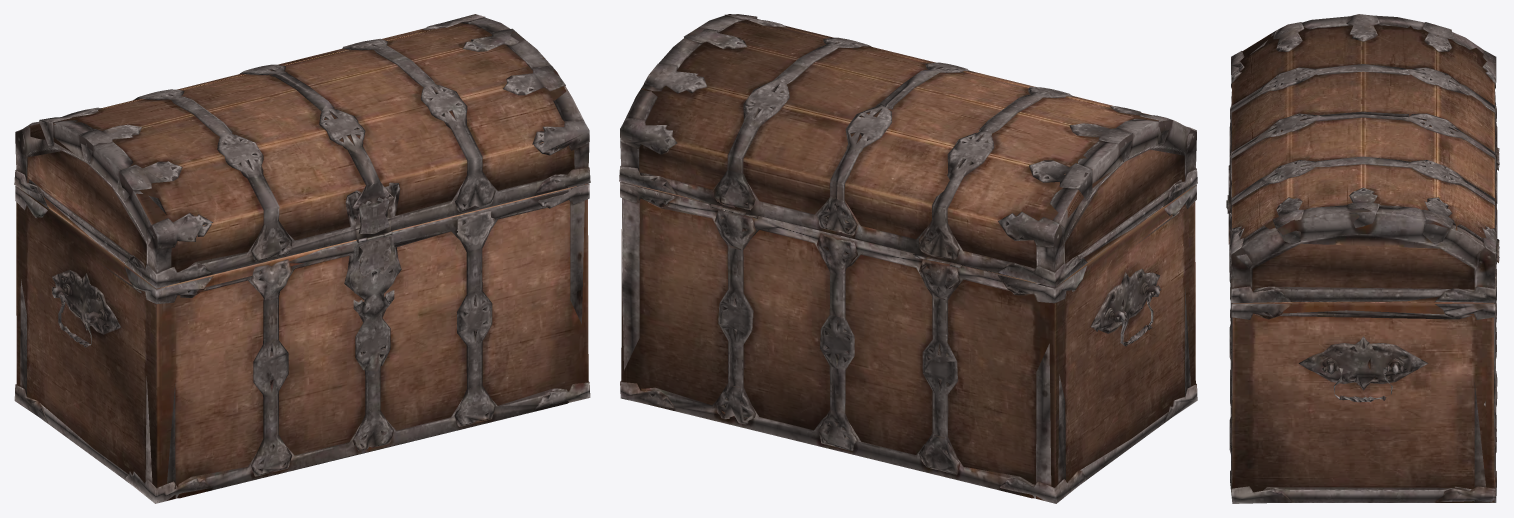
File: treasure_chest.glb
3 renders of one model, left to right at view 1: azimuth 30°, elevation 25°; view 2: azimuth 150°, elevation 25°; view 3: azimuth 270°, elevation 25°, orthographic. The views are drawn at different scales.
Parts seen in each view (by area): view 1: treasure_chest_bottom; view 2: treasure_chest_bottom; view 3: treasure_chest_bottom.
Part boxes in pixels (<box>): treasure_chest_bottom: <box>14,14,590,503</box>; treasure_chest_bottom: <box>619,14,1197,503</box>; treasure_chest_bottom: <box>1226,14,1499,503</box>.
Bounding box in the file's own units: 0.959 × 0.6175 × 0.522.
1 material, 1 textured.
